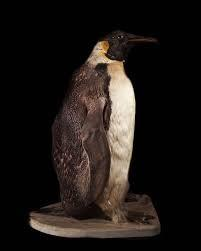emporer: (49, 26, 172, 227)
